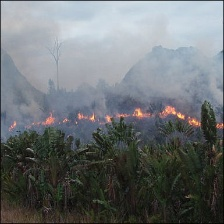fire: (160, 103, 206, 128), (106, 109, 152, 126), (64, 111, 100, 126), (35, 111, 56, 126), (6, 115, 20, 136)
smoke: (2, 6, 223, 109)
